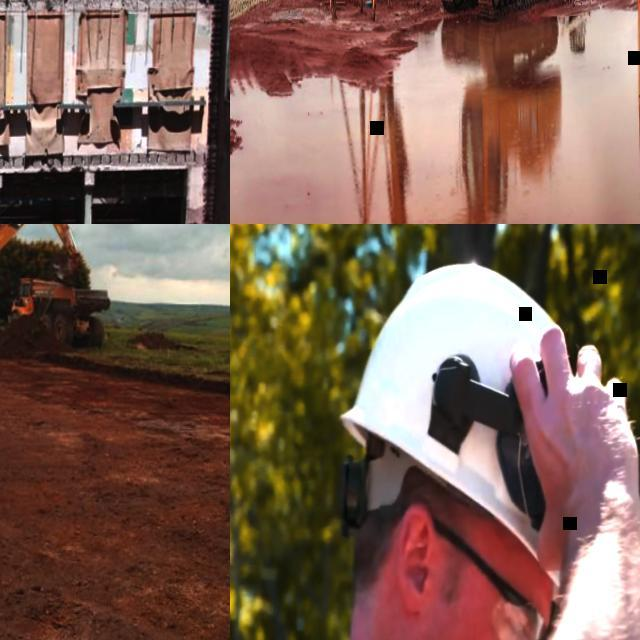helmet: (336, 257, 570, 603)
